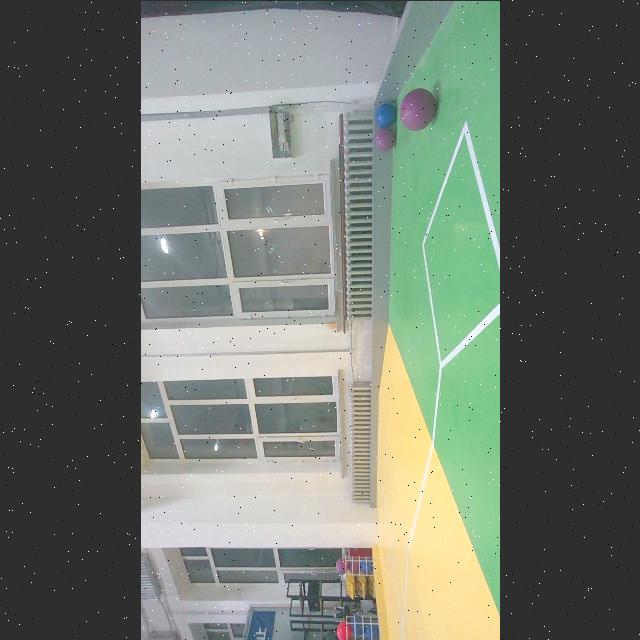B: (374, 103, 396, 127)
P: (398, 88, 436, 130), (374, 128, 394, 150)
